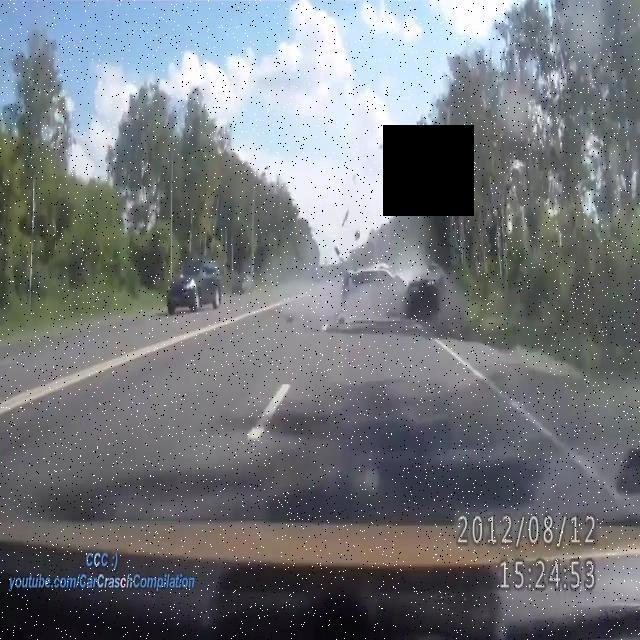multiple_accident: (323, 253, 454, 332)
